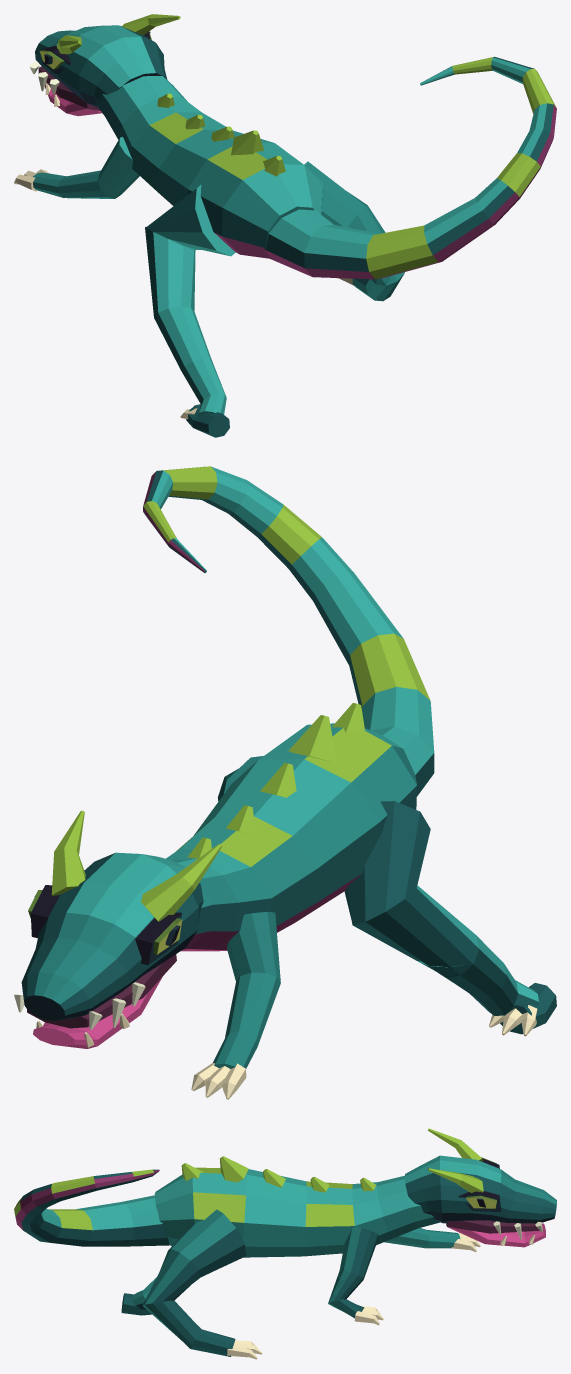
Rendered from CaveRunner_D3-02.fbx.
3 renders of one model, top to bottom at view 1: azimuth 30°, elevation 25°; view 2: azimuth 150°, elevation 25°; view 3: azimuth 270°, elevation 25°, orthographic. The views are drawn at different scales.
Visible parts, largest first — view 1: Body, Tail, Head, Leg_BL, Shin_BL, Leg_BR, Leg_FL, Shin_FL, Shin_BR, Jaw; view 2: Body, Head, Tail, Leg_BL, Shin_BL, Leg_FL, Shin_FL, Jaw; view 3: Body, Head, Tail, Leg_BR, Shin_BR, Leg_FR, Jaw, Shin_FL, Shin_FR, Shin_BL.
Part boxes in pixels (box(x1,y1,x2,y2)): Body: box(95, 76, 322, 258); Tail: box(263, 56, 556, 279); Head: box(30, 14, 180, 112); Leg_BL: box(145, 185, 235, 348); Shin_BL: box(164, 318, 229, 437); Leg_BR: box(304, 161, 404, 287); Leg_FL: box(63, 137, 139, 198); Shin_FL: box(14, 169, 132, 198); Shin_BR: box(336, 272, 404, 301); Jaw: box(31, 59, 102, 116); Body: box(166, 703, 417, 951); Head: box(14, 810, 221, 1029); Tail: box(143, 466, 434, 796); Leg_BL: box(344, 801, 497, 979); Shin_BL: box(417, 945, 556, 1036); Leg_FL: box(227, 911, 280, 1029); Shin_FL: box(191, 978, 280, 1099); Jaw: box(14, 956, 176, 1048); Body: box(154, 1156, 440, 1257); Head: box(404, 1128, 556, 1234); Tail: box(14, 1169, 169, 1246); Leg_BR: box(143, 1209, 246, 1320); Shin_BR: box(142, 1299, 262, 1359); Leg_FR: box(332, 1226, 378, 1295); Jaw: box(447, 1220, 545, 1247); Shin_FL: box(384, 1228, 480, 1251); Shin_FR: box(328, 1273, 383, 1325); Shin_BL: box(121, 1277, 156, 1315).
Size of the model in its own units: 0.78 by 0.7324 by 1.42.
1 material, 1 textured.
